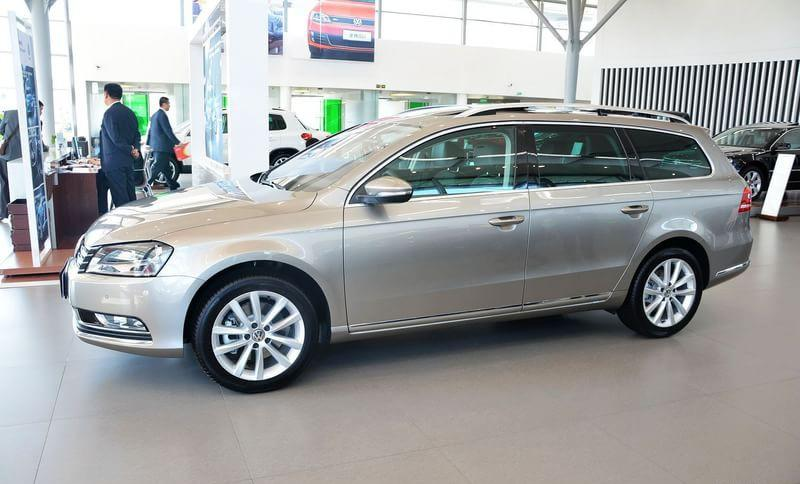Wagon: (59, 101, 754, 394)
